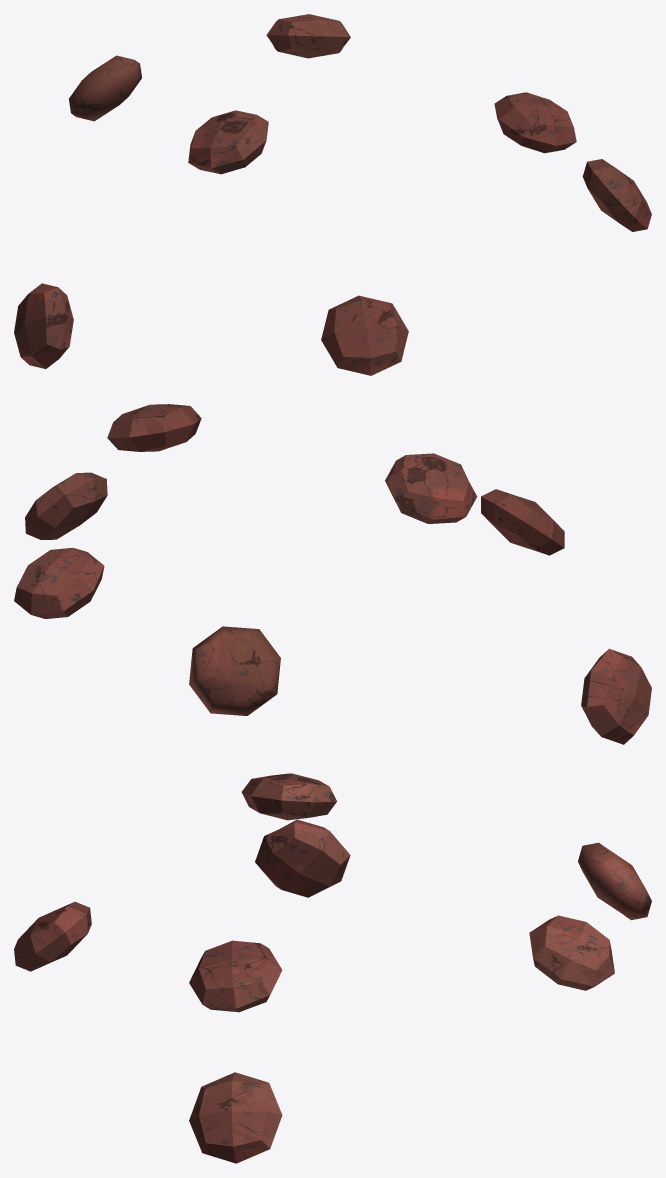
Rendered from IronOre.fbx.
3 renders of one model, top to bottom at view 1: azimuth 30°, elevation 25°; view 2: azimuth 150°, elevation 25°; view 3: azimuth 270°, elevation 25°, orthographic. The views are drawn at different scales.
Parts seen in each view (by area): view 1: Cube; view 2: Cube; view 3: Cube.
Boxes of the visible parts, x1,y1,x2,y2 form: Cube: [14, 14, 651, 375]; Cube: [14, 404, 651, 744]; Cube: [14, 773, 651, 1163].
Bounding box in the file's own units: 129 × 43.2 × 113.
1 material, 1 textured.
